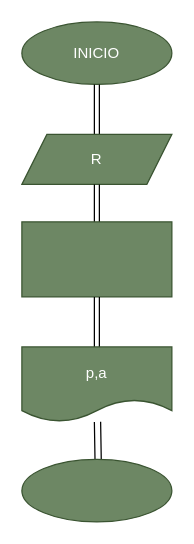
Some shapes in this 194 by 544 pixel diagram are drawn without their labels. The shapes that lost their labels are listed below. From the top down, each one's box as (x1, y1, x2, y2) in pixels, then its label:
(21, 221, 172, 297): P=2 π A= πr 2
(21, 458, 172, 522): FIN
